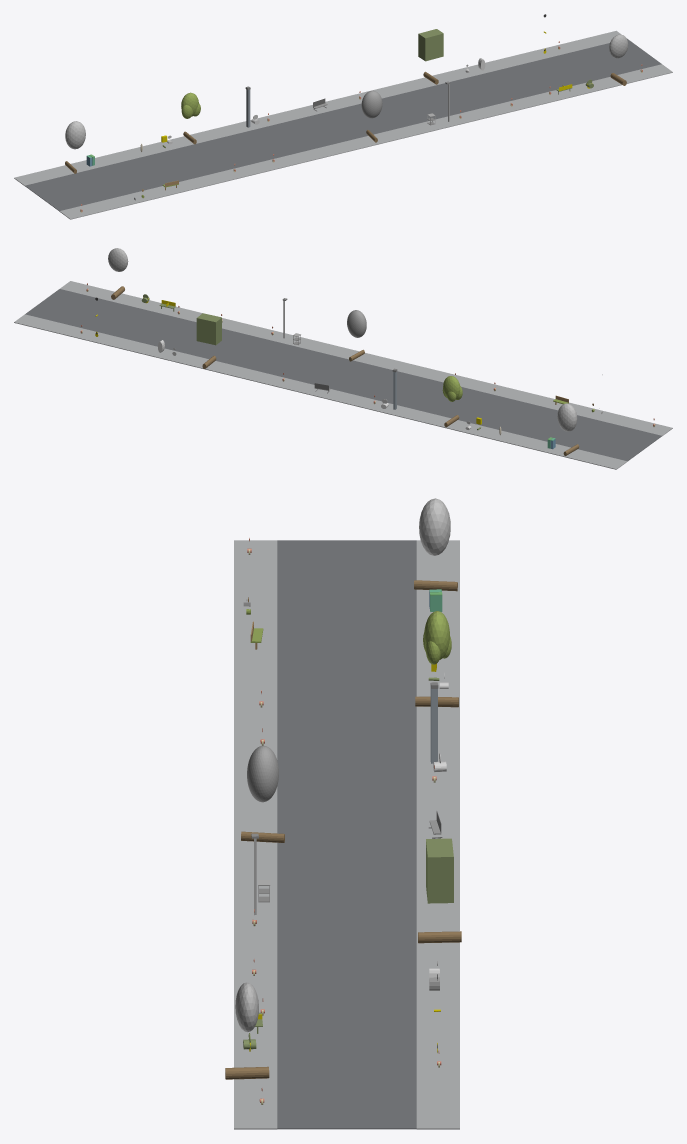
3 renders of one model, top to bottom at view 1: azimuth 30°, elevation 25°; view 2: azimuth 150°, elevation 25°; view 3: azimuth 270°, elevation 25°, orthographic. The views are drawn at different scales.
Visible parts, largest first — view 1: road_slab, sidewalk_left, sidewalk_right, inst_0015, inst_0014, inst_0012, inst_0013, inst_0016; view 2: road_slab, sidewalk_right, sidewalk_left, inst_0015, inst_0012, inst_0014, inst_0016, inst_0013; view 3: road_slab, sidewalk_left, sidewalk_right, inst_0015, inst_0012, inst_0014, inst_0013, inst_0016.
Part boxes in pixels (<box>): road_slab: <box>25,38,661,211</box>; sidewalk_left: <box>59,64,672,219</box>; sidewalk_right: <box>14,30,626,185</box>; inst_0015: <box>418,29,443,84</box>; inst_0014: <box>361,90,382,142</box>; inst_0012: <box>65,121,85,173</box>; inst_0013: <box>181,92,200,144</box>; inst_0016: <box>609,34,628,85</box>; road_slab: <box>25,289,661,461</box>; sidewalk_right: <box>14,314,627,469</box>; sidewalk_left: <box>60,281,672,436</box>; inst_0015: <box>196,313,221,368</box>; inst_0012: <box>557,403,579,455</box>; inst_0014: <box>347,310,366,361</box>; inst_0016: <box>108,248,128,299</box>; inst_0013: <box>442,376,462,427</box>; road_slab: <box>277,540,416,1129</box>; sidewalk_left: <box>234,540,277,1129</box>; sidewalk_right: <box>416,540,459,1129</box>; inst_0015: <box>418,838,461,943</box>; inst_0012: <box>414,498,457,591</box>; inst_0014: <box>241,745,284,842</box>; inst_0013: <box>415,611,458,707</box>; inst_0016: <box>225,982,269,1079</box>.
Size of the model in its own units: 80 by 6.08 by 13.6.
